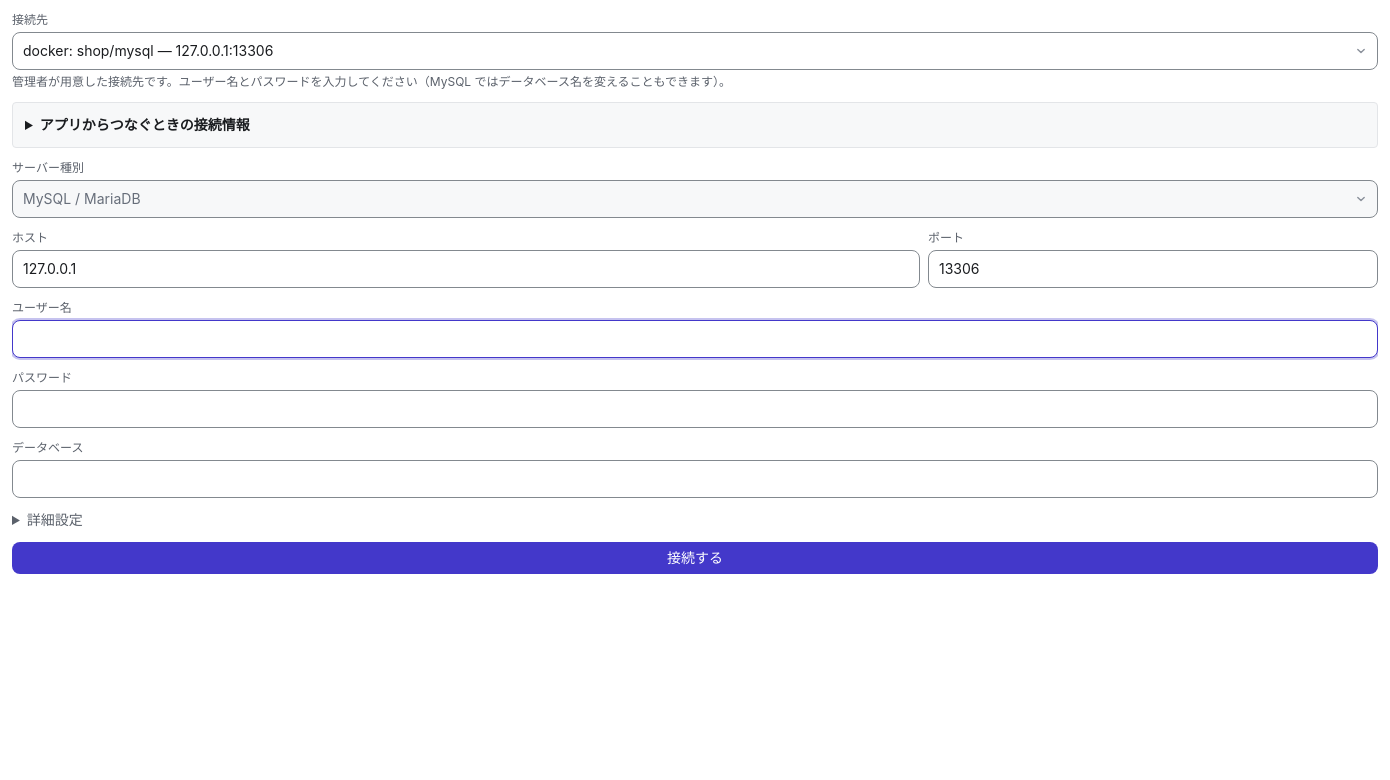
LoginForm with a passkey › shows the connection details for the application only while a Docker container is chosen
The image size is (1390, 780).
Check: the heading "アプリからつなぐときの接続情報" is shown, box [40,116,250,133]
Select "prod — db.internal:5432" in the dropdown labelled "接続先": (695, 51) [12,32,1378,70]
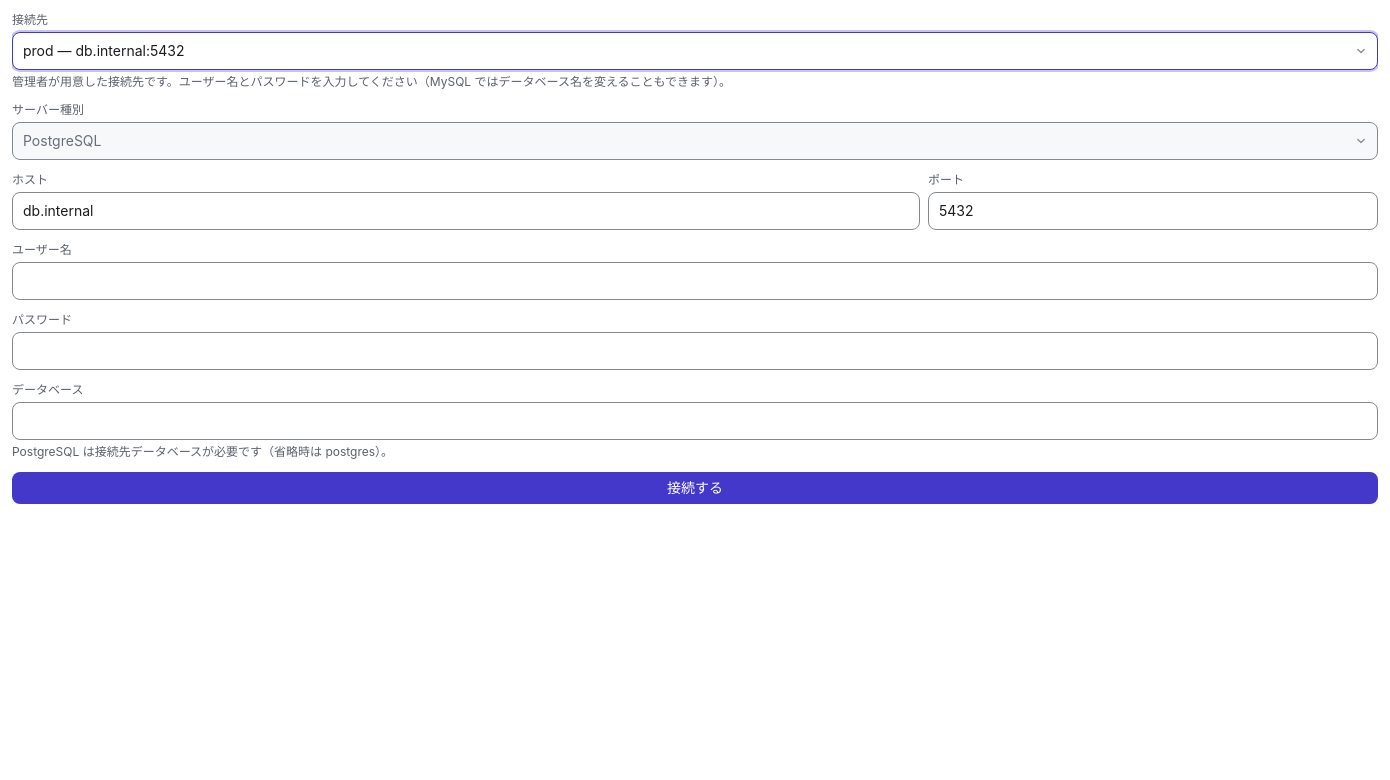
Check: the heading "アプリからつなぐときの接続情報" is gone
